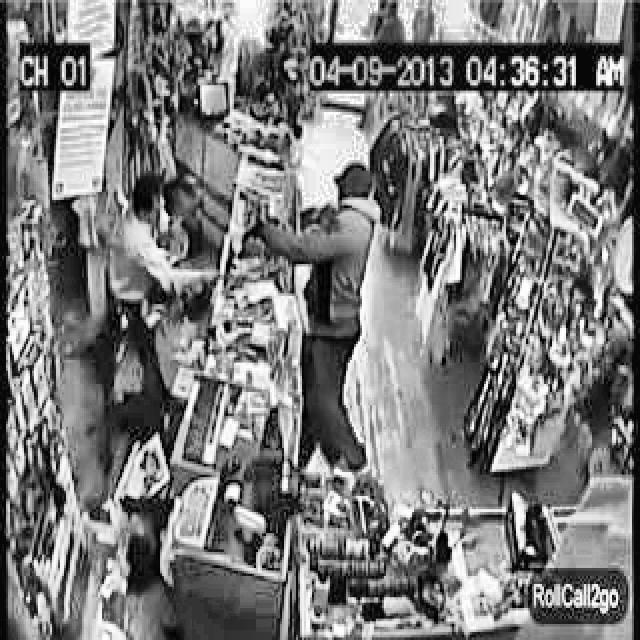robbery: (239, 156, 383, 472), (100, 171, 239, 302)
